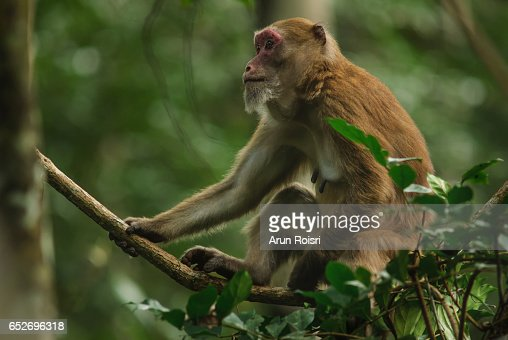monkey: (103, 15, 458, 303)
